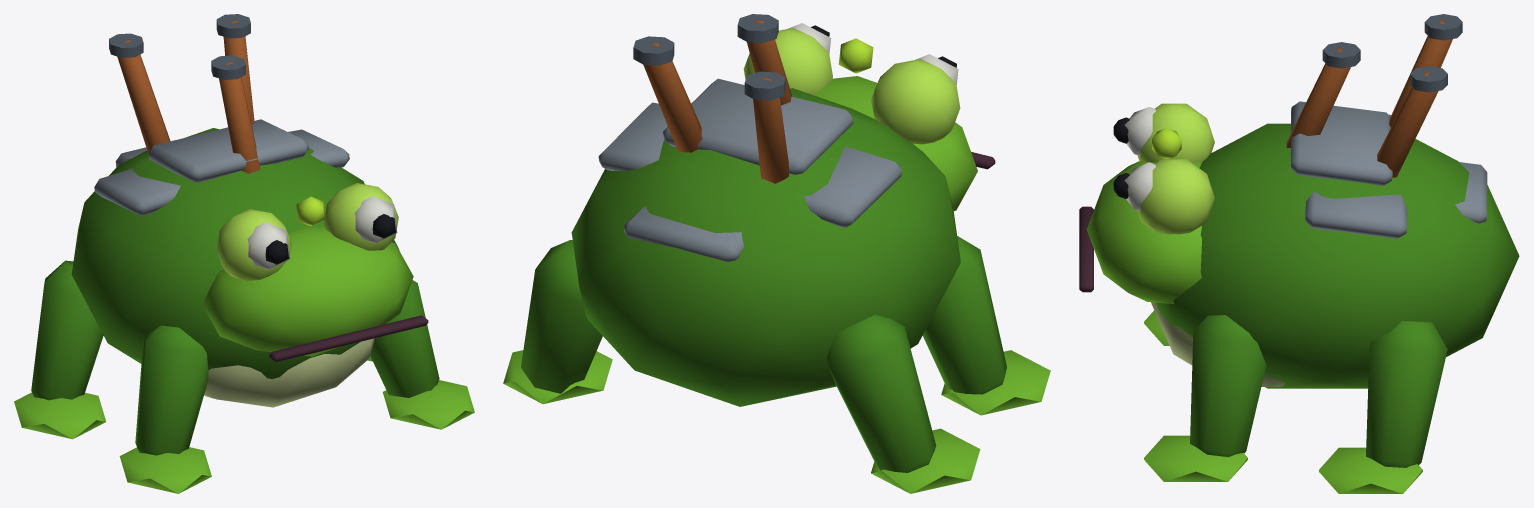
The model's file is e_mutanten_panzerkroete.glb.
The picture shows the model from 3 angles, left to right: view 1: azimuth 30°, elevation 25°; view 2: azimuth 150°, elevation 25°; view 3: azimuth 270°, elevation 25°; orthographic projection. The views are drawn at different scales.
Parts seen in each view (by area): view 1: body; view 2: body; view 3: body.
Boxes of the visible parts, box(x1,y1,x2,y2) form: body: box(14, 14, 474, 493); body: box(503, 14, 1050, 493); body: box(1079, 14, 1519, 493).
Bounding box in the file's own units: 3.24 × 2.71 × 3.02.
